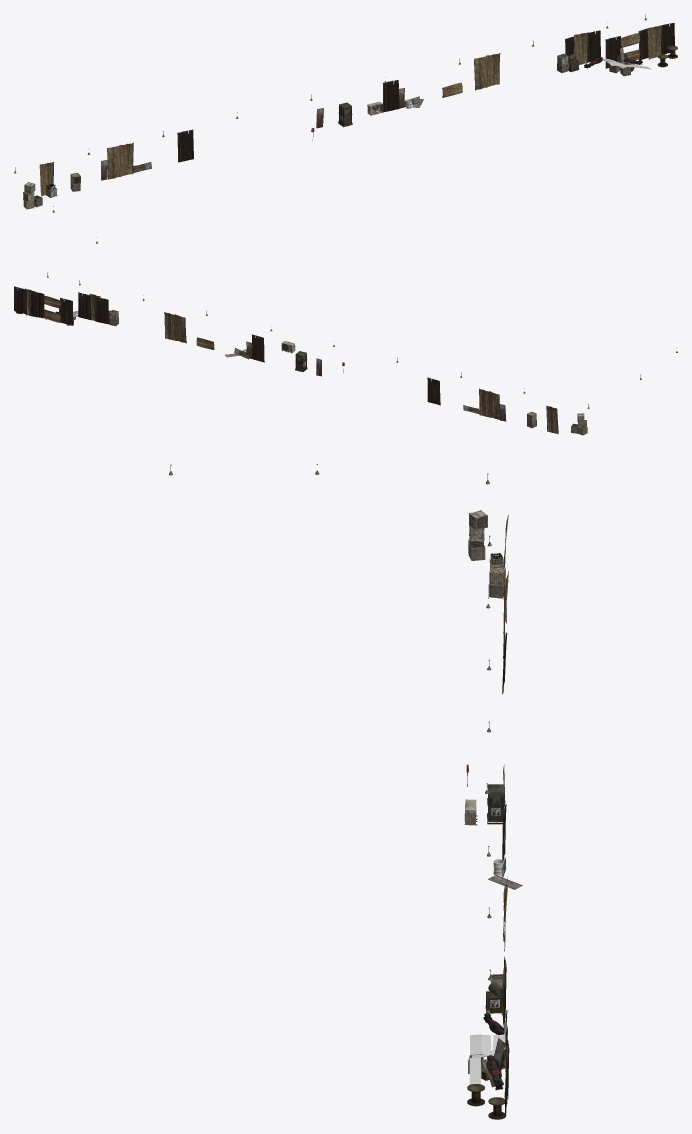
File: Walkable Area_A3.fbx
The picture shows the model from 3 angles, top to bottom: view 1: azimuth 30°, elevation 25°; view 2: azimuth 150°, elevation 25°; view 3: azimuth 270°, elevation 25°; orthographic projection. The views are drawn at different scales.
Visible parts, largest first — view 1: A3_ExtProps_01, A3_ExtProps_02; view 2: A3_ExtProps_01, A3_ExtProps_02; view 3: A3_ExtProps_01, A3_ExtProps_02.
Boxes of the visible parts, left/top/right/bottom form: A3_ExtProps_01: left=382, top=14, right=677, bottom=112; A3_ExtProps_02: left=14, top=94, right=383, bottom=243; A3_ExtProps_01: left=14, top=272, right=272, bottom=362; A3_ExtProps_02: left=281, top=341, right=677, bottom=435; A3_ExtProps_01: left=467, top=783, right=522, bottom=1119; A3_ExtProps_02: left=169, top=464, right=508, bottom=825.
Bounding box in the file's own units: 72.46 × 5.37 × 19.15.
